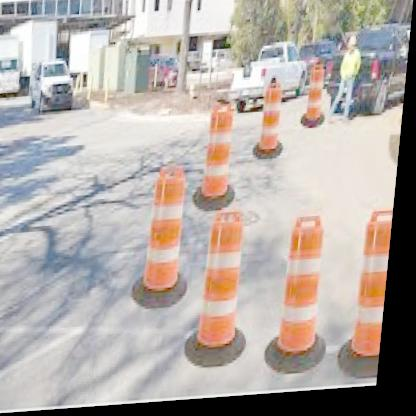obstacle: (283, 218, 336, 365), (203, 210, 254, 357), (149, 160, 195, 294), (205, 107, 239, 200), (262, 86, 291, 156), (305, 64, 329, 129)
